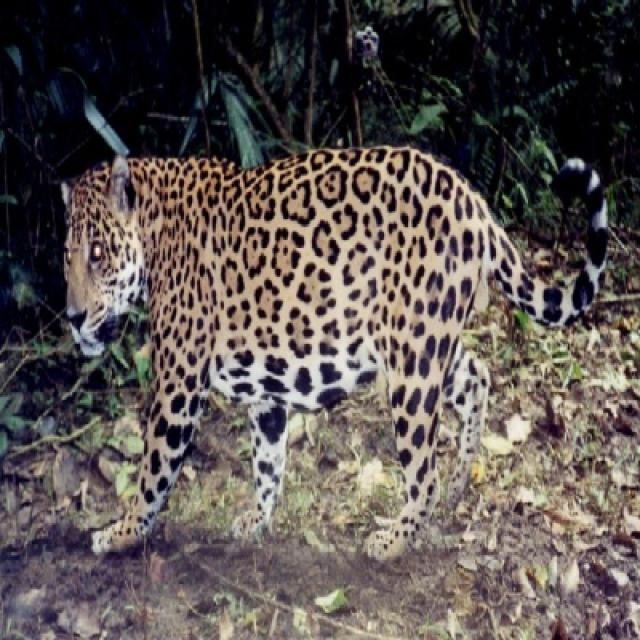Jaguar: (64, 147, 538, 546)
